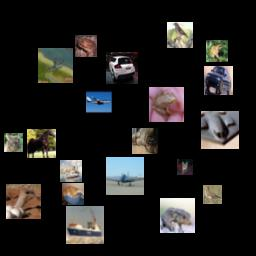airplane: (106, 157, 144, 195), (201, 111, 239, 149), (38, 48, 73, 83), (86, 89, 112, 115)
automobile: (106, 52, 138, 84), (204, 66, 233, 95)
bird: (6, 184, 41, 219), (167, 22, 193, 48), (203, 185, 222, 204)
cat: (132, 128, 158, 154), (62, 183, 84, 205), (4, 133, 23, 152), (177, 159, 193, 175)
frog: (160, 198, 195, 233), (149, 87, 184, 122), (75, 35, 97, 57), (206, 40, 228, 62)
ship: (66, 206, 104, 244), (60, 160, 82, 182)
